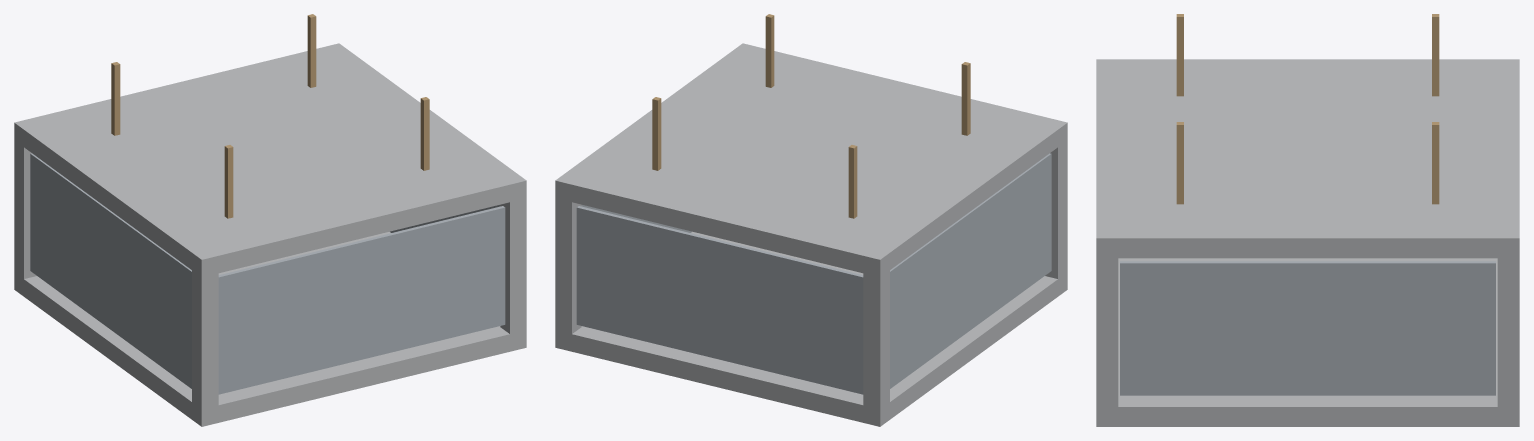
File: soc_screen.fbx
The picture shows the model from 3 angles, left to right: view 1: azimuth 30°, elevation 25°; view 2: azimuth 150°, elevation 25°; view 3: azimuth 270°, elevation 25°; orthographic projection. The views are drawn at different scales.
Parts seen in each view (by area): view 1: metal_1, screen_1, trim_1; view 2: metal_1, screen_1, trim_1; view 3: metal_1, screen_1, trim_1.
Part boxes in pixels (x1=…): metal_1: x1=14, y1=43, x2=526, y2=426; screen_1: x1=30, y1=153, x2=505, y2=394; trim_1: x1=111, y1=14, x2=429, y2=218; metal_1: x1=555, y1=43, x2=1067, y2=426; screen_1: x1=576, y1=153, x2=1051, y2=394; trim_1: x1=652, y1=14, x2=970, y2=218; metal_1: x1=1096, y1=59, x2=1519, y2=426; screen_1: x1=1120, y1=261, x2=1495, y2=395; trim_1: x1=1176, y1=14, x2=1439, y2=204.
Size of the model in its own units: 2.32 by 1.62 by 2.32.
